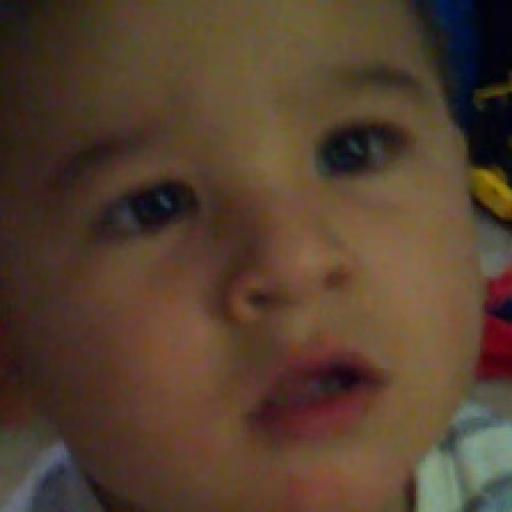Autism: (0, 0, 503, 512)
